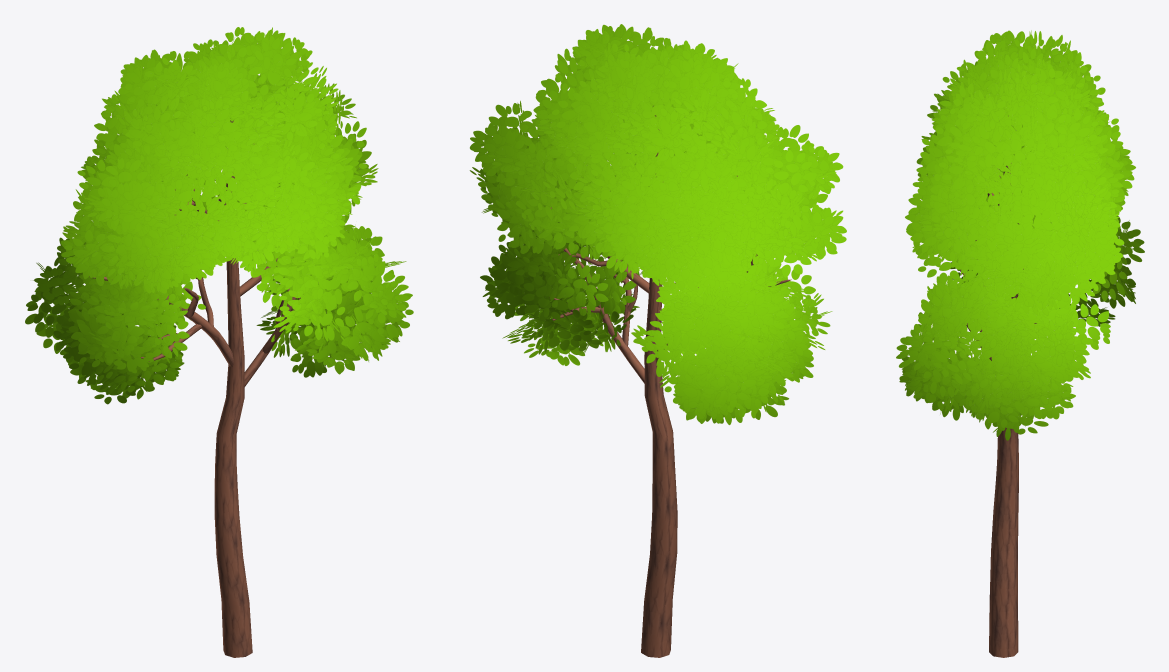
Rendered from Tree1.glb.
3 views of the same model, side by side, from view 1: azimuth 30°, elevation 25°; view 2: azimuth 150°, elevation 25°; view 3: azimuth 270°, elevation 25° (orthographic). The views are drawn at different scales.
Visible parts, largest first — view 1: NormalTree_1; view 2: NormalTree_1; view 3: NormalTree_1.
Boxes of the visible parts, left/top/right/bottom form: NormalTree_1: left=25, top=27, right=413, bottom=657; NormalTree_1: left=469, top=24, right=846, bottom=657; NormalTree_1: left=896, top=30, right=1144, bottom=657.
Size of the model in its own units: 4.05 by 6.87 by 2.74.
2 materials, 2 textured.
